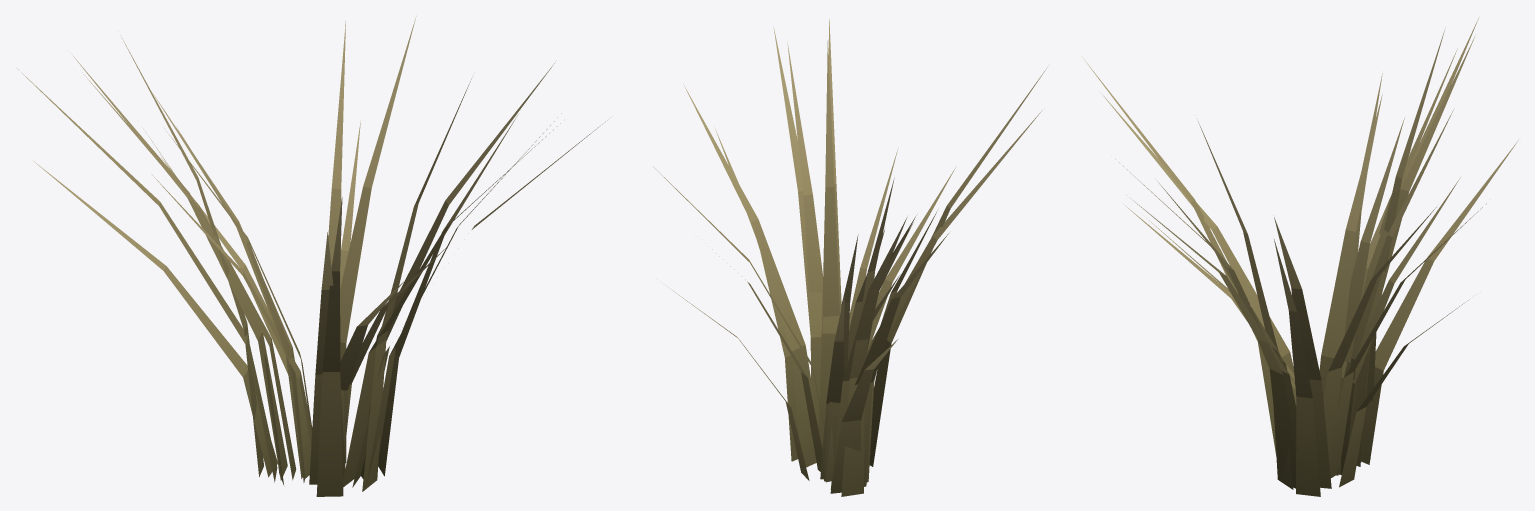
The model's file is grass_dry_01.glb.
The picture shows the model from 3 angles, left to right: view 1: azimuth 30°, elevation 25°; view 2: azimuth 150°, elevation 25°; view 3: azimuth 270°, elevation 25°; orthographic projection. The views are drawn at different scales.
Parts seen in each view (by area): view 1: grass_dry_01; view 2: grass_dry_01; view 3: grass_dry_01.
Boxes of the visible parts, x1,y1,x2,y2 form: grass_dry_01: (17, 16, 610, 496); grass_dry_01: (653, 19, 1047, 496); grass_dry_01: (1083, 18, 1518, 496).
Size of the model in its own units: 1.09 by 1.06 by 1.08.
